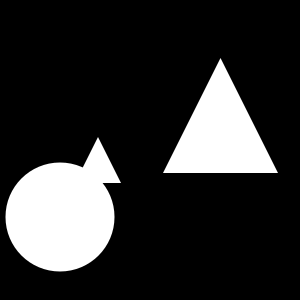rectangle: (6, 163, 115, 272)
triangle: (163, 58, 278, 173), (75, 137, 121, 183)
